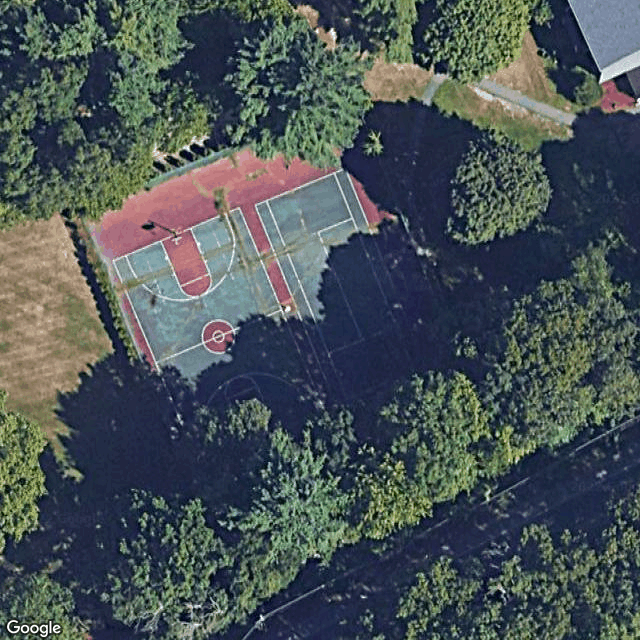Court: (251, 165, 429, 406)
